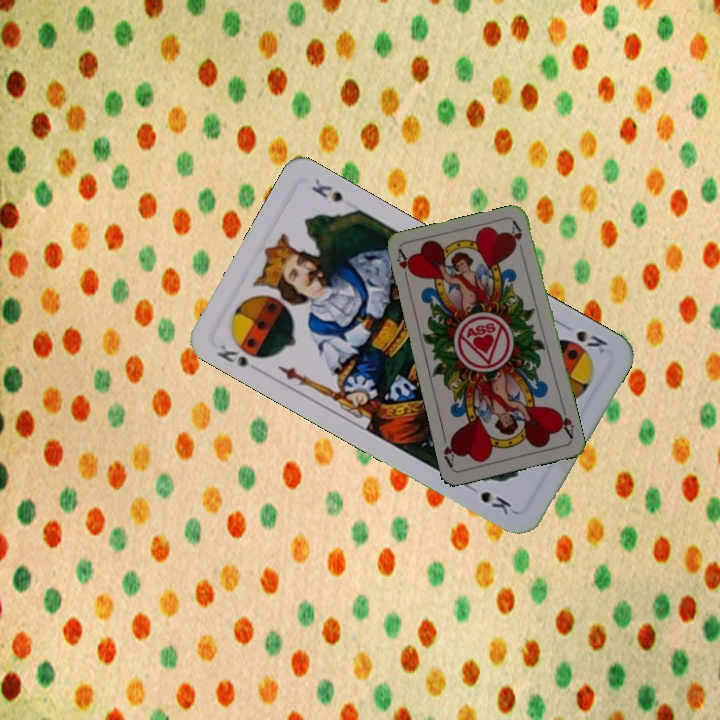HA: (393, 246, 416, 287), (553, 402, 576, 441)
SK: (213, 340, 265, 374), (572, 326, 611, 356)
